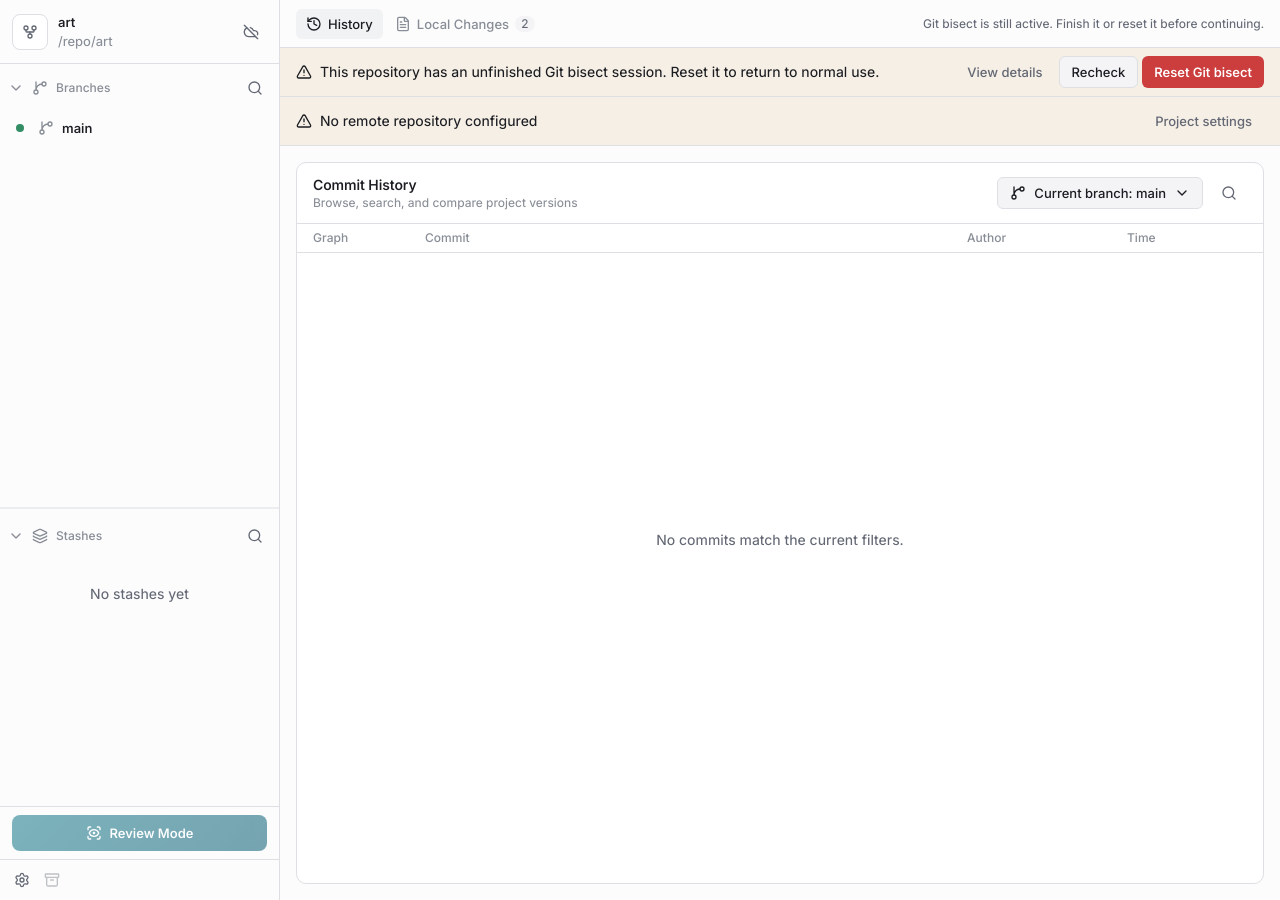
RepositoryShell loading state › resets an existing Git bisect with write and close protection
Expected: the text "This repository has an unfinished Git bisect session. Reset it to return to normal use." is shown, [320,63,879,80]
Click the button "Reset Git bisect". click: (1203, 72)
box: [1142,56,1264,88]
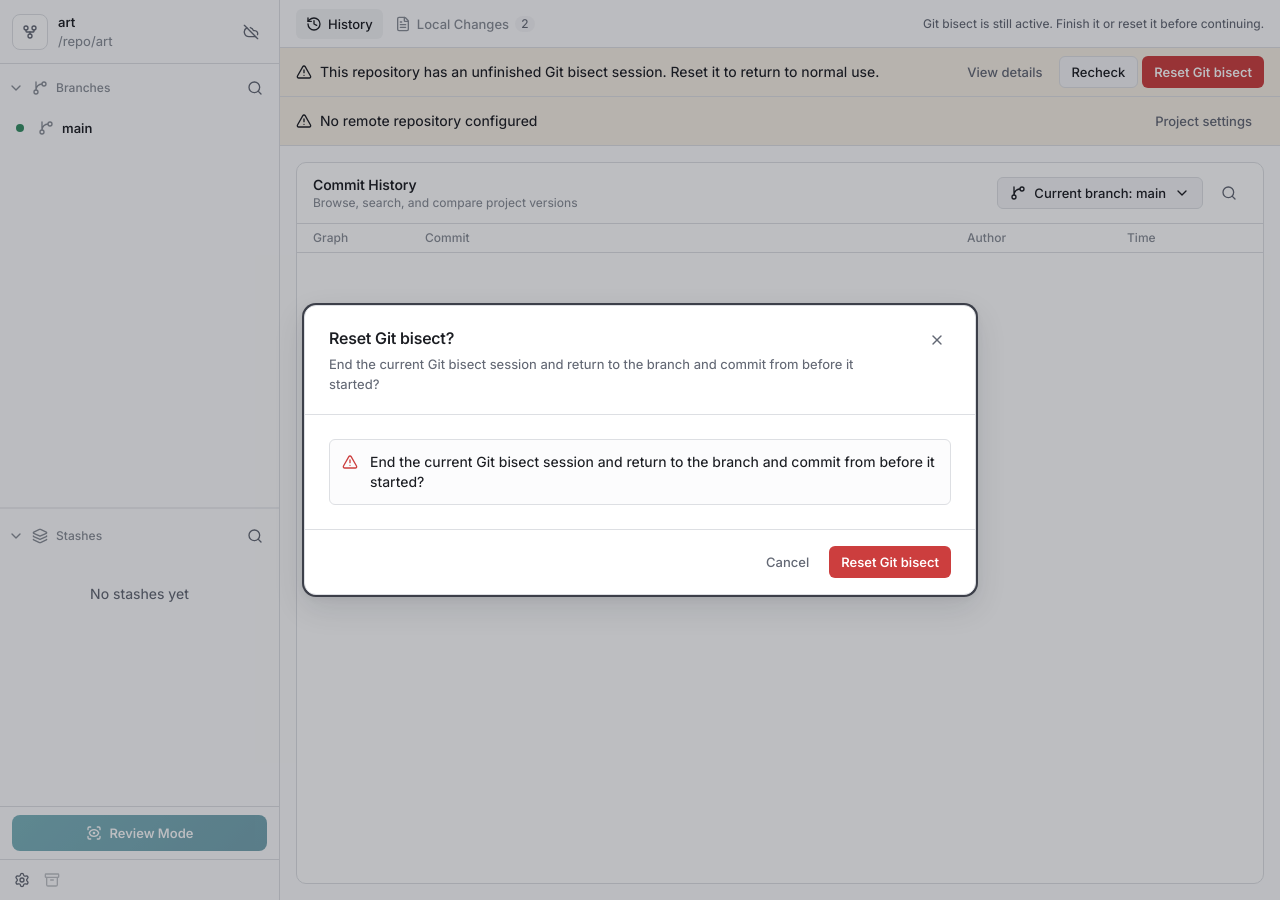
Click the button "Reset Git bisect". click: (890, 562)
box: [829,546,951,578]
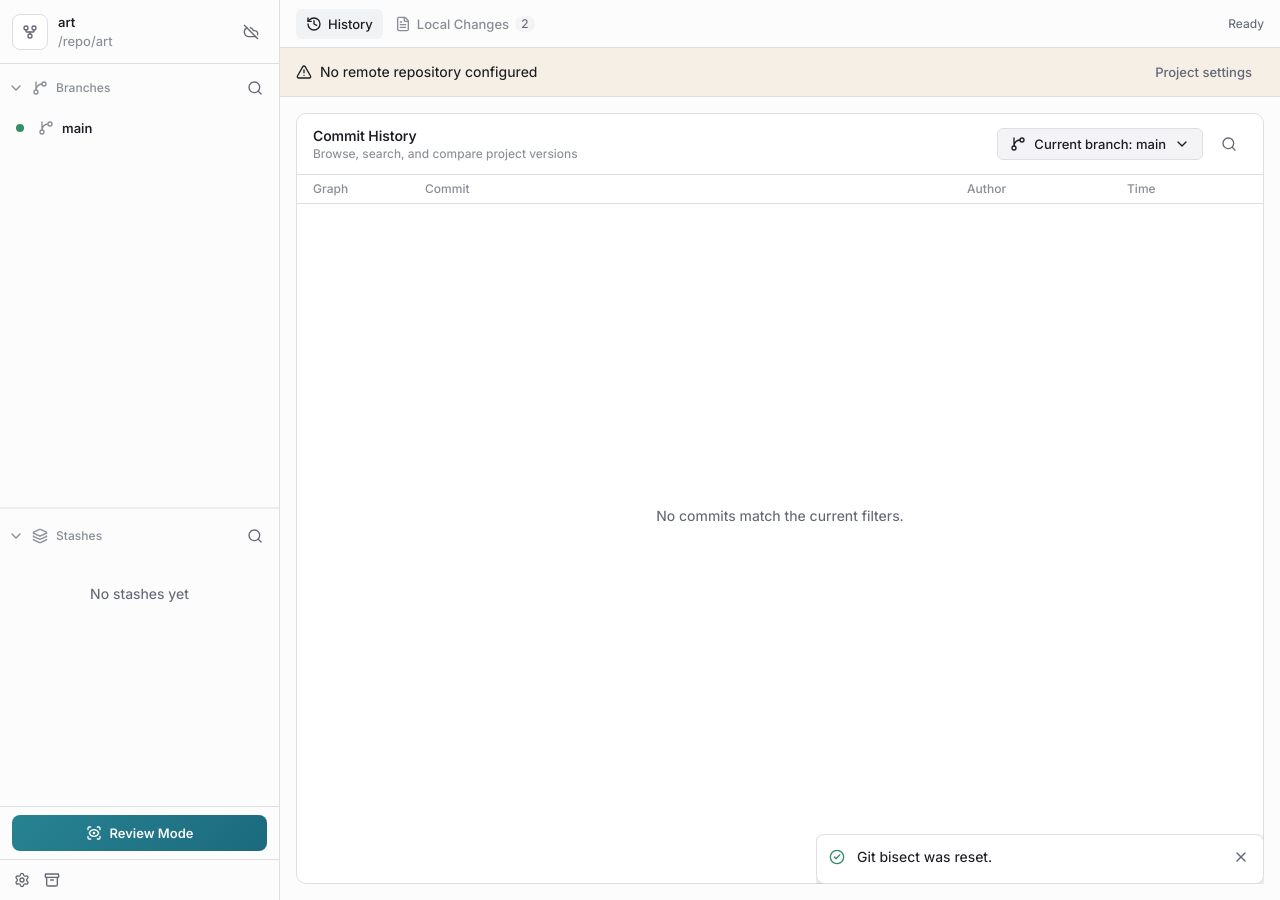
Result: the message with test id "app-toast" reads "Git bisect was reset." at [857,848,992,865]
Result: the text "This repository has an unfinished Git bisect session. Reset it to return to normal use." is gone
